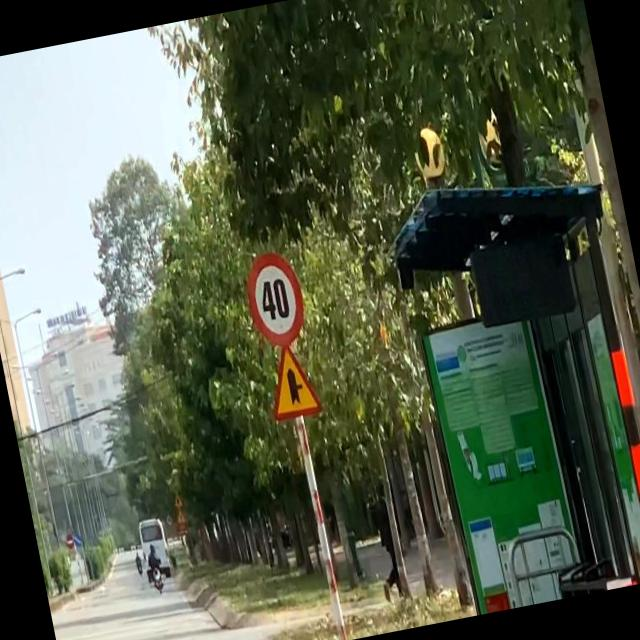P-127: (241, 248, 310, 348)
W-207b: (260, 340, 324, 423)
